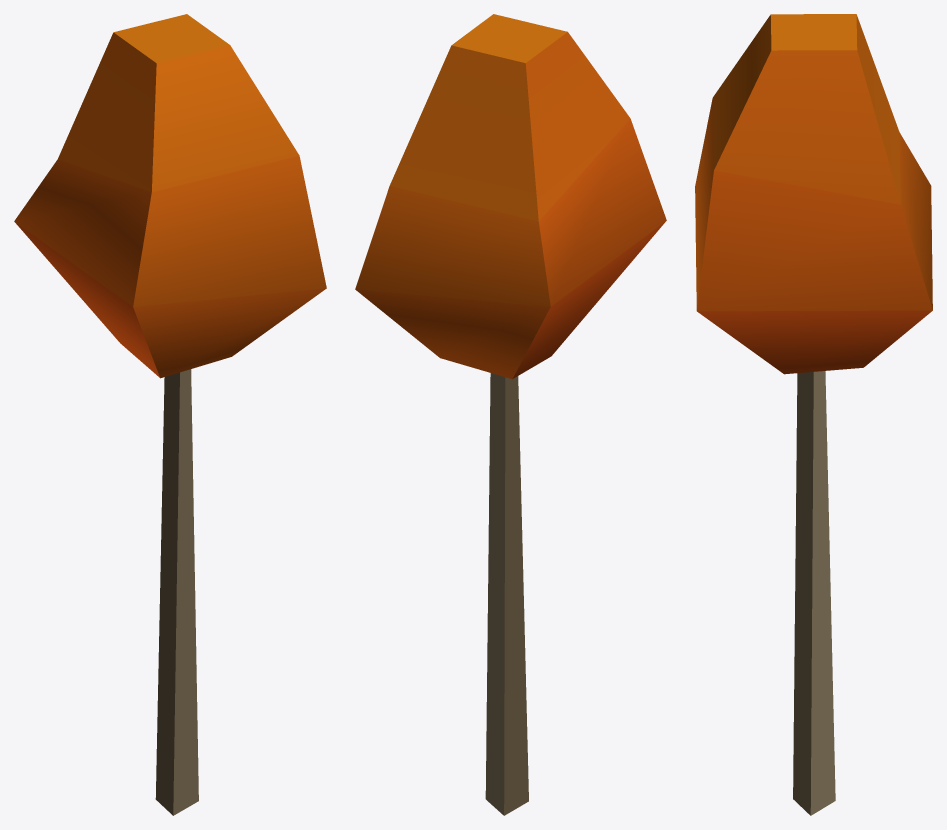
File: SF_Env_Tree_Tall_Fall_03.fbx
3 views of the same model, side by side, from view 1: azimuth 30°, elevation 25°; view 2: azimuth 150°, elevation 25°; view 3: azimuth 270°, elevation 25° (orthographic).
Parts seen in each view (by area): view 1: SF_Env_Tree_Tall_Fall_03; view 2: SF_Env_Tree_Tall_Fall_03; view 3: SF_Env_Tree_Tall_Fall_03.
Part boxes in pixels (x1=…): SF_Env_Tree_Tall_Fall_03: x1=14, y1=14, x2=326, y2=815; SF_Env_Tree_Tall_Fall_03: x1=355, y1=14, x2=666, y2=815; SF_Env_Tree_Tall_Fall_03: x1=695, y1=14, x2=932, y2=815.
Size of the model in its own units: 2.35 by 8.77 by 2.45.
